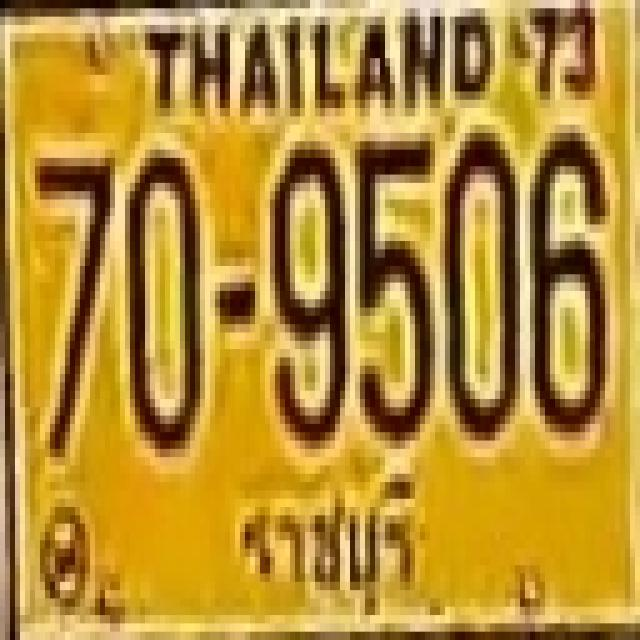0: (440, 125, 515, 432), (122, 146, 198, 444)
5: (352, 133, 432, 441)
6: (528, 125, 602, 424)
7: (32, 150, 112, 448)
9: (270, 138, 345, 436)
RBR: (228, 465, 430, 626)
